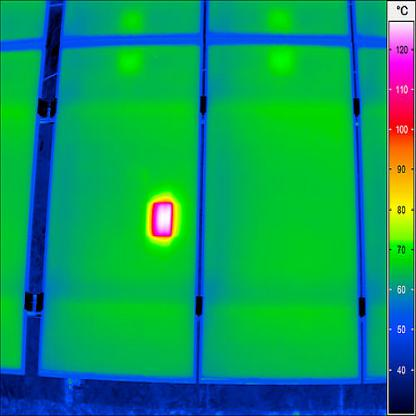Defects: (154, 204, 171, 240)
